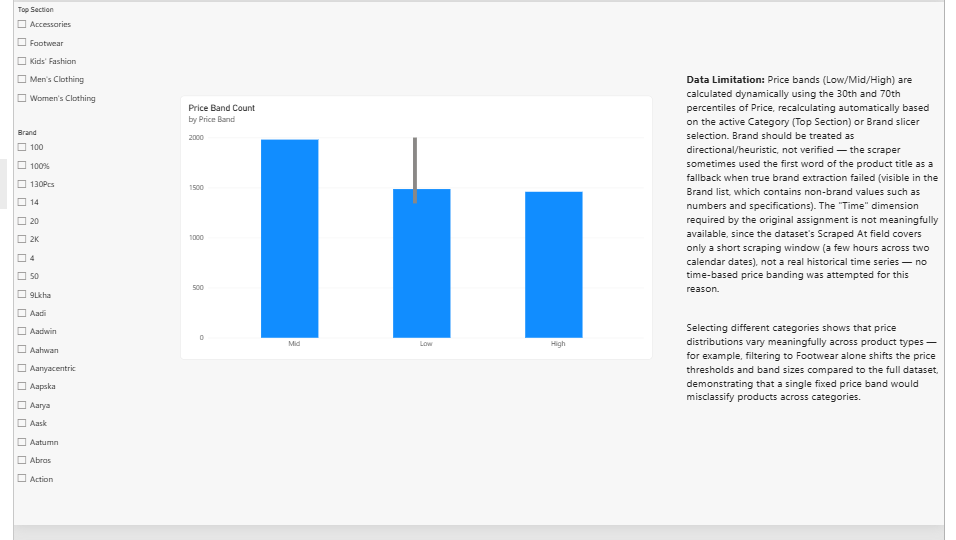

Layout of this report page (visuals, bound fields, positions):
{"tool":"powerbi","page":{"name":"Page 6","canvas":[1920,1080],"ordinal":5},"visuals":[{"type":"clusteredColumnChart","fields":{"Category":["Price Brand Table.Price Band"],"Y":["Price Brand Table.Price Band Count"]},"box":[342.9,192.9,975,545],"z":0},{"type":"slicer","fields":{"Values":["Cleaned_snapdeal.Top Section"]},"box":[0,7.2,644.2,369.2],"z":1000},{"type":"slicer","fields":{"Values":["Cleaned_snapdeal.Brand"]},"box":[0,260,831.7,740],"z":2000},{"type":"textbox","box":[1390,145,530,640],"z":3000},{"type":"textbox","box":[1390,655,530,400],"z":4000}]}

Visuals, with their boxes on the page's 1920x1080 design canvas (x1, y1, x2, y2). These are canvas units, not pixel positions in the 956x540 screenshot, which may show the page scaled, cropped or inside an application window:
clusteredColumnChart - Price Brand Table.Price Band x Price Brand Table.Price Band Count: 343,193,1318,738
slicer - Cleaned_snapdeal.Top Section: 0,7,644,376
slicer - Cleaned_snapdeal.Brand: 0,260,832,1000
textbox: 1390,145,1920,785
textbox: 1390,655,1920,1055
